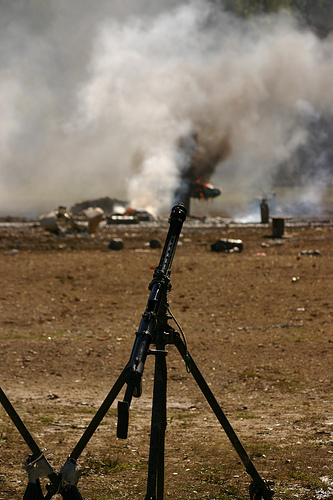rifle: (43, 147, 286, 486)
